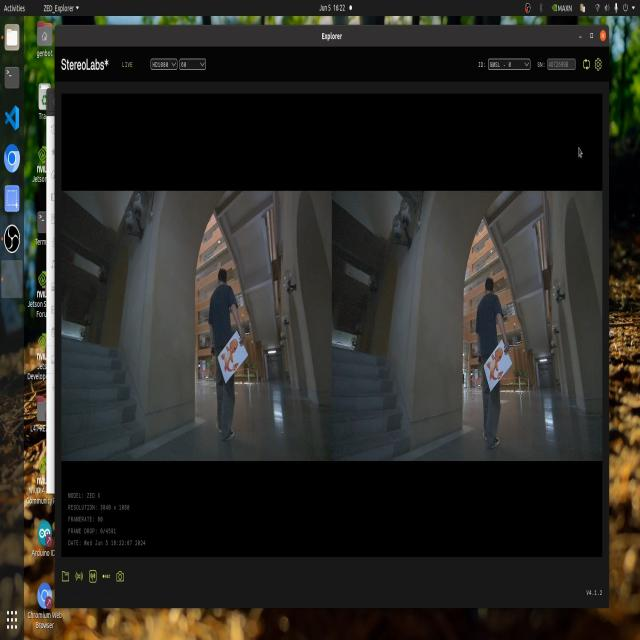red: (220, 332, 240, 372), (486, 348, 504, 388)
